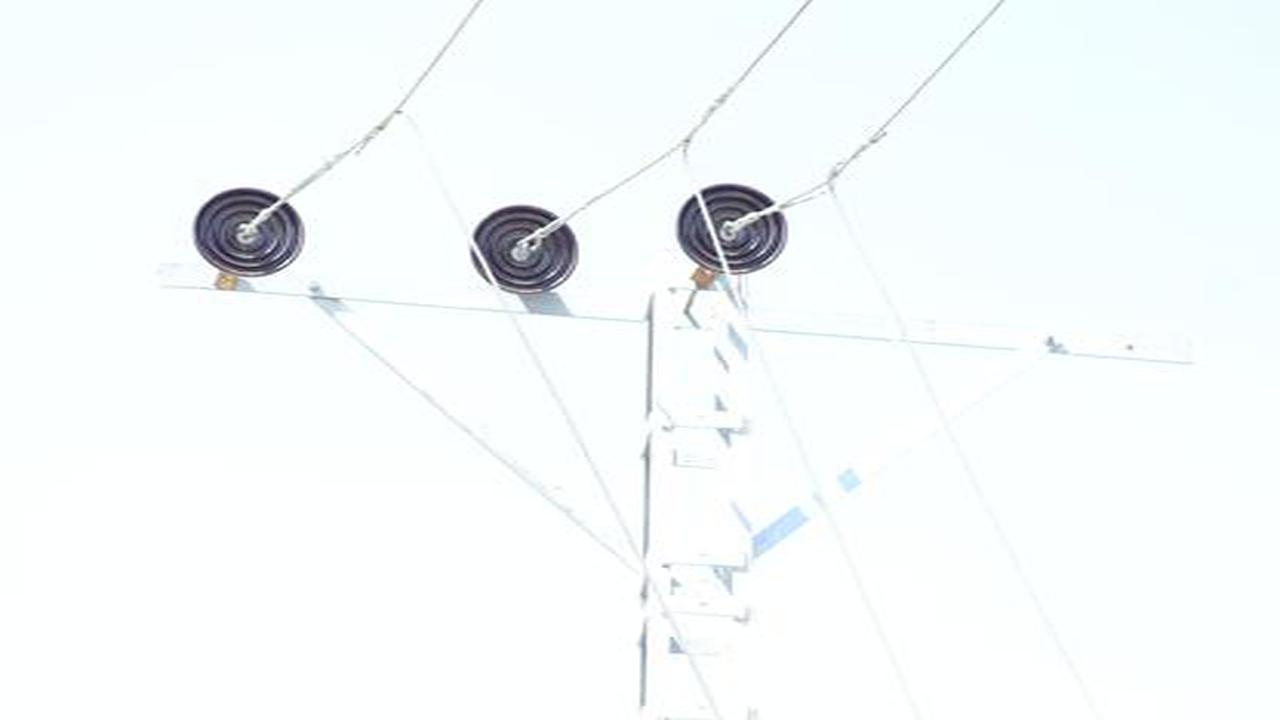insulator_disc: (670, 177, 790, 281), (467, 199, 581, 302), (192, 185, 306, 279)
